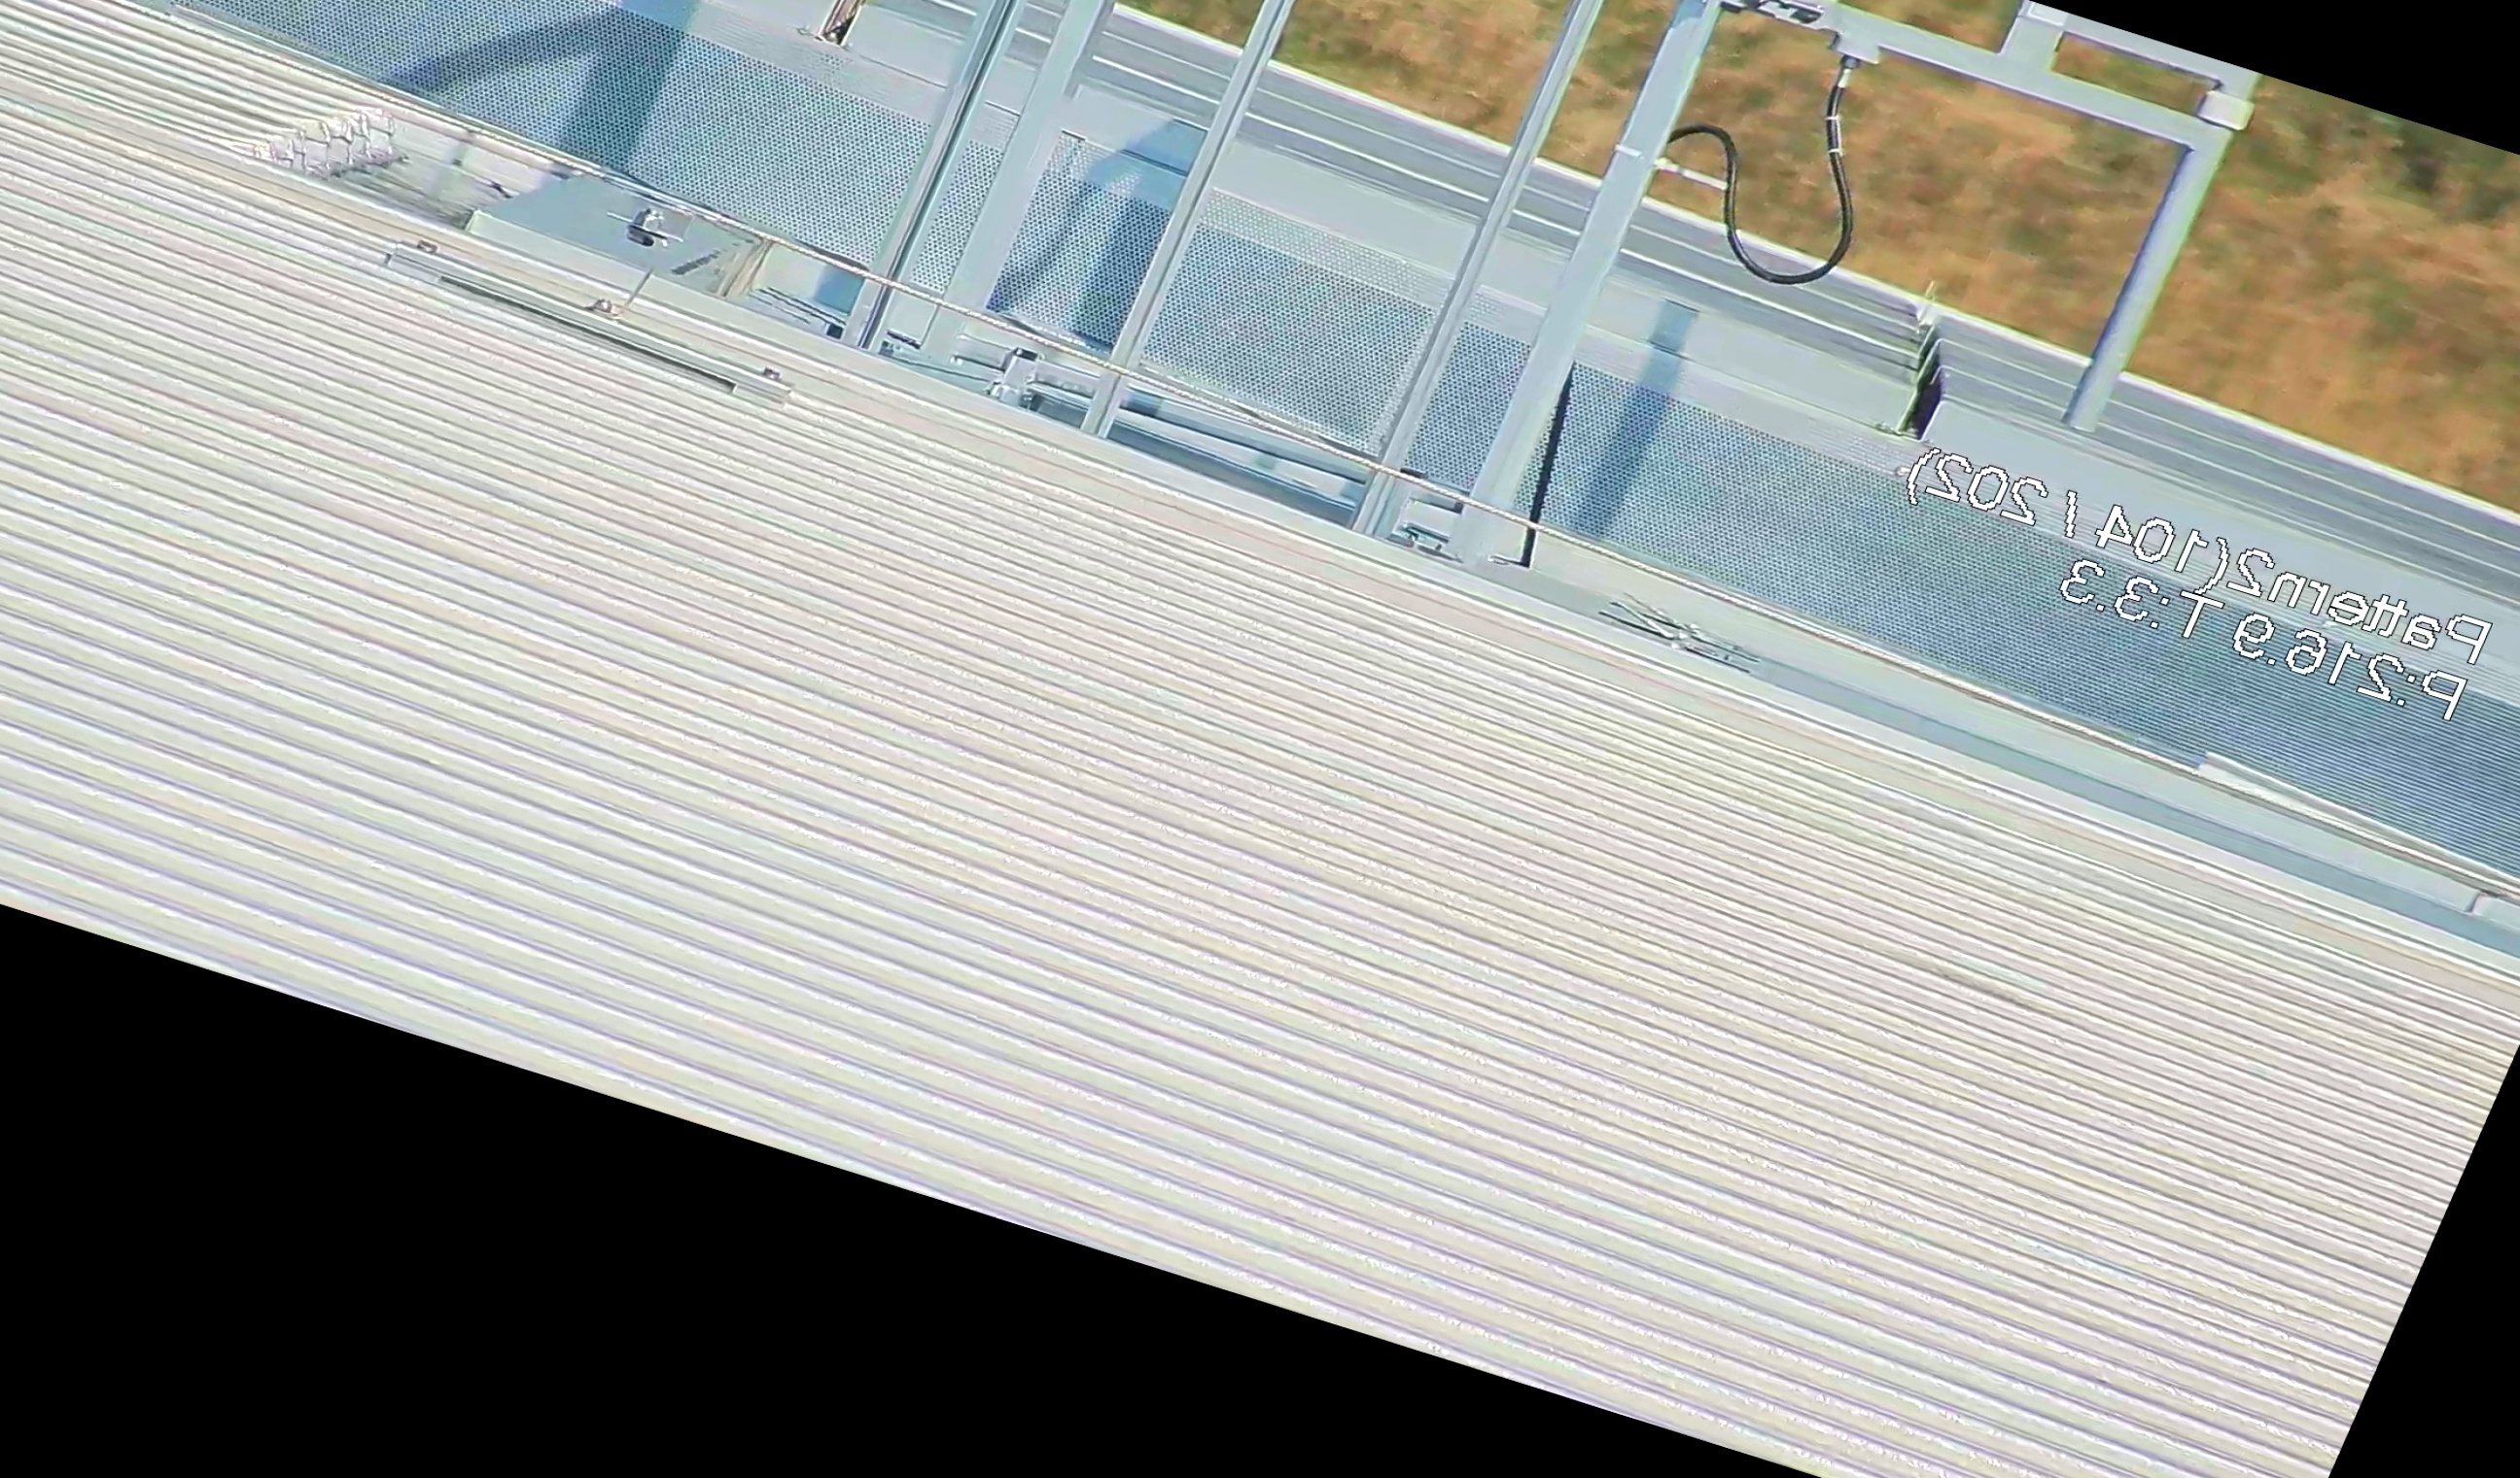Other: (211, 72, 406, 209)
